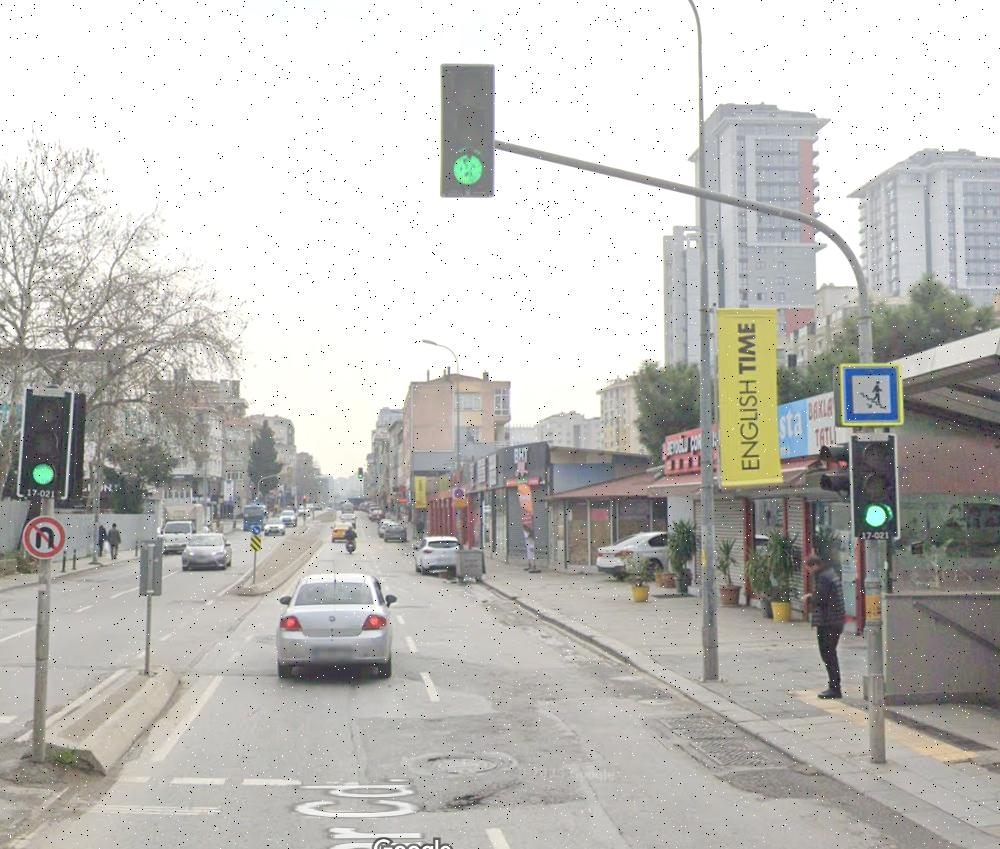greenlight: (439, 64, 497, 201), (18, 385, 69, 497), (852, 431, 897, 540)
